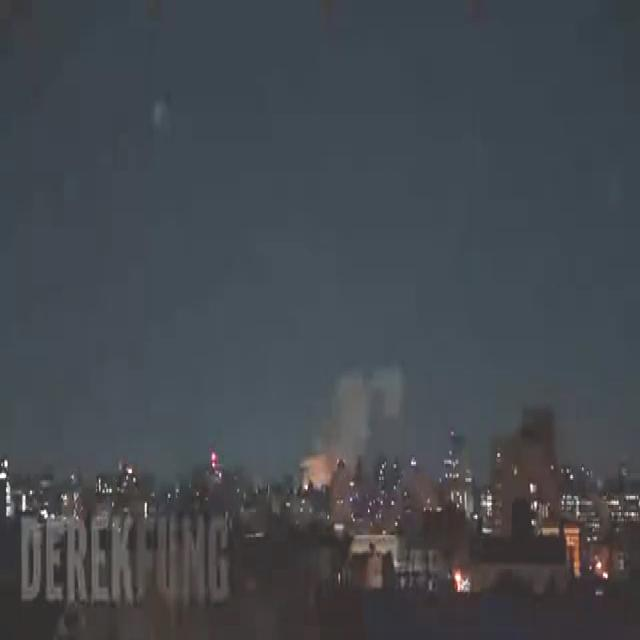smoke: (300, 366, 403, 484)
